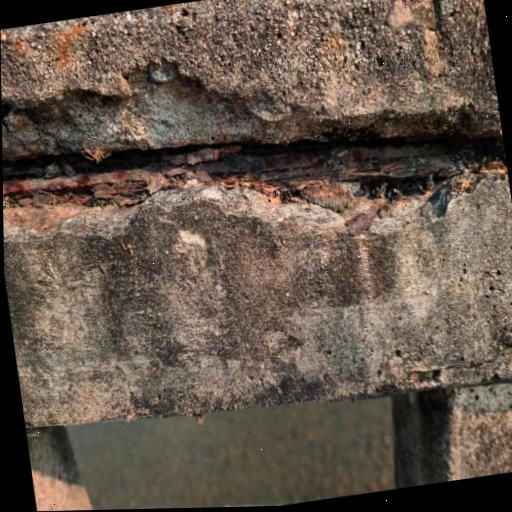exposed_rebar: (207, 140, 506, 175), (68, 149, 182, 175), (7, 155, 54, 180)
spalling: (2, 63, 507, 239)
